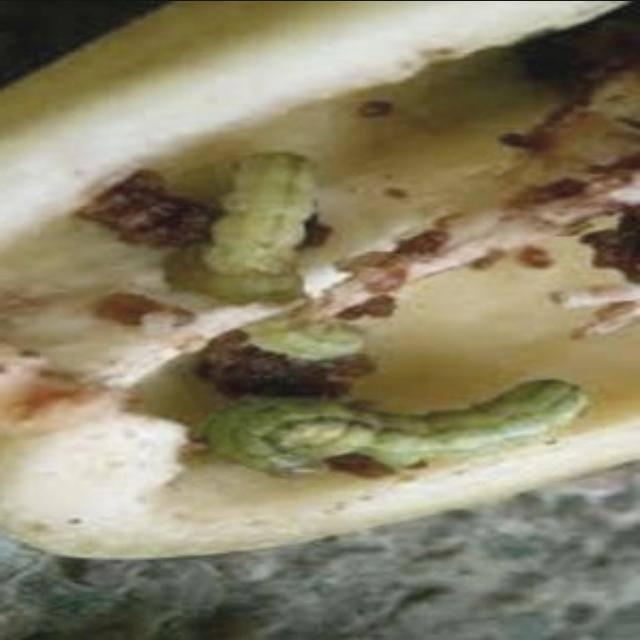Cotton bollworm: (195, 338, 599, 528), (154, 105, 382, 301)
